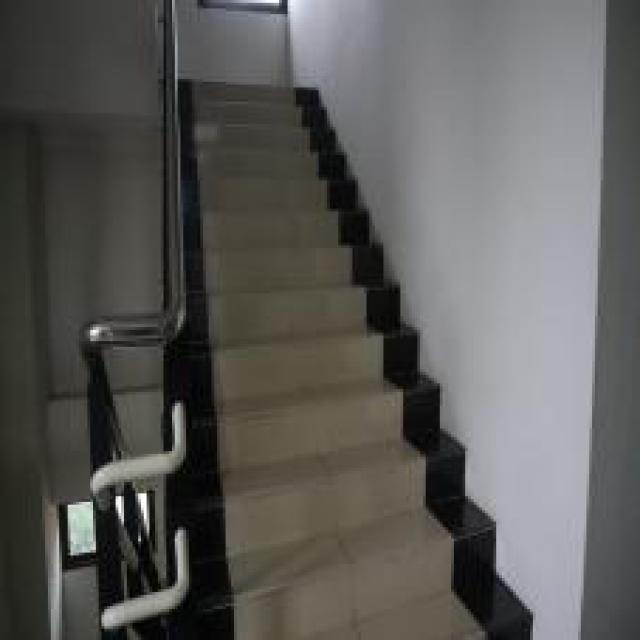upstair: (187, 108, 458, 638)
